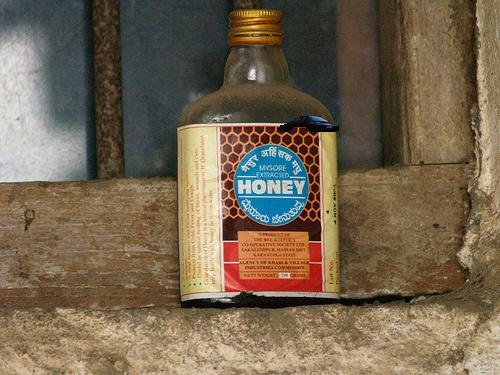tampered: (280, 116, 339, 132)
